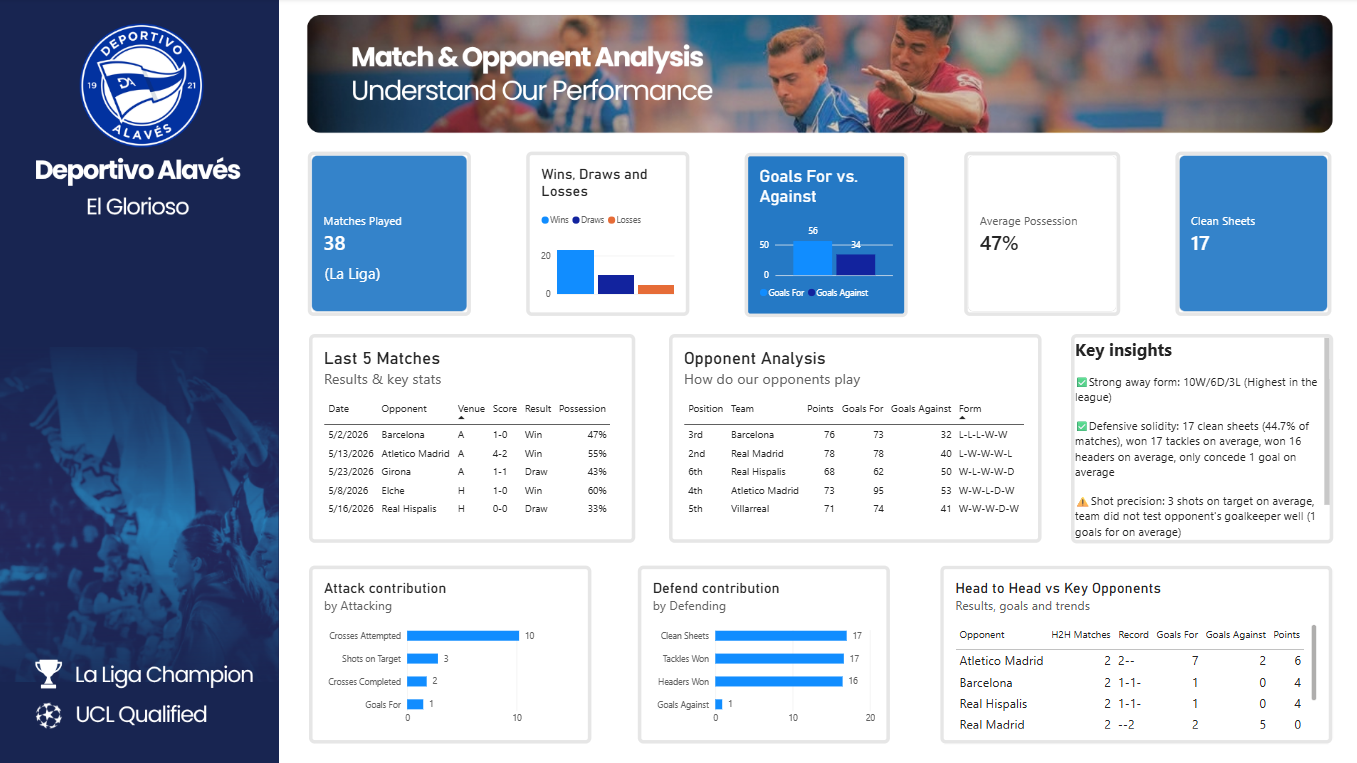

What the dashboard file says about the page in this screenshot:
{"tool":"powerbi","page":{"name":"Match & Opponent Analysis","canvas":[1920,1080],"ordinal":3},"visuals":[{"type":"image","box":[0,0,1920,1080.5],"z":0},{"type":"cardVisual","fields":{"Data":["CountNonNull(PBI_Matches.Opponent)"]},"box":[436.6,215.8,229.2,230.9],"z":1000,"group":"g1"},{"type":"textbox","box":[460.1,371.5,94.3,36.6],"z":2000,"group":"g1"},{"type":"clusteredColumnChart","fields":{"Y":["PBI_Matches.Wins","PBI_Matches.Draws","PBI_Matches.Losses"]},"box":[743.7,215,229.2,230.9],"z":3000},{"type":"clusteredColumnChart","title":"Goals For vs. Against","fields":{"Y":["Sum(PBI_Matches.Goals_For)","Sum(PBI_Matches.Goals_Against)"]},"box":[1050.8,216.7,229.2,230.9],"z":4000},{"type":"cardVisual","fields":{"Data":["PBI_Financials.Average Percentage"]},"box":[1358,215,219.1,230.9],"z":5000},{"type":"cardVisual","fields":{"Data":["PBI_Matches.Clean Sheets"]},"box":[1655,215,219.1,230.9],"z":6000},{"type":"tableEx","title":"Last 5 Matches","fields":{"Values":["PBI_Matches.Date.Variation.Date Hierarchy.Month","PBI_Matches.Opponent","PBI_Matches.Venue","PBI_Matches.Score","PBI_Matches.Result","PBI_Matches.Average Possession"]},"box":[437.5,472.5,458.5,293.3],"z":7000},{"type":"tableEx","title":"Opponent Analysis","fields":{"Values":["PBI_Opponent_Form.Position","PBI_Opponent_Form.Team","PBI_Opponent_Form.Points","PBI_Opponent_Form.Goals For","PBI_Opponent_Form.Goals Against","PBI_Opponent_Form.Form"]},"box":[944,472,523.6,293.6],"z":8000},{"type":"clusteredBarChart","fields":{"Category":["PBI_Matches_Contribution.Attacking"],"Y":["PBI_Matches_Contribution.Attack contribution"]},"box":[437.5,797.5,396.5,250.2],"z":9000},{"type":"clusteredBarChart","fields":{"Category":["PBI_Matches_Contribution.Defending"],"Y":["PBI_Matches_Contribution.Defend contribution"]},"box":[900.3,796.7,354.2,250.2],"z":10000},{"type":"tableEx","title":"Head to Head vs Key Opponents","fields":{"Values":["PBI_Matches.Opponent","PBI_Matches.H2H Matches","PBI_Matches.Record","Sum(PBI_Matches.Goals_For)","Sum(PBI_Matches.Goals_Against)","Sum(PBI_Matches.Points)"]},"box":[1325,797.5,550.5,250.2],"z":11000},{"type":"textbox","box":[1508,472,368,294],"z":12000},{"type":"group","id":"g1","title":"Group 1","box":[436.6,215.8,229.2,230.9],"z":12001}]}

Visuals, with their boxes in screenshot pixels (x1, y1, x2, y2), scaled from the page's 1920x1080 canvas onto the 1357x763 screenshot:
image: BBox(0, 0, 1356, 762)
cardVisual - CountNonNull(PBI_Matches.Opponent): BBox(309, 152, 471, 316)
textbox: BBox(325, 262, 392, 288)
clusteredColumnChart - PBI_Matches.Wins x PBI_Matches.Draws: BBox(526, 152, 688, 315)
"Goals For vs. Against" clusteredColumnChart: BBox(743, 153, 905, 316)
cardVisual - PBI_Financials.Average Percentage: BBox(960, 152, 1115, 315)
cardVisual - PBI_Matches.Clean Sheets: BBox(1170, 152, 1325, 315)
"Last 5 Matches" tableEx: BBox(309, 334, 633, 541)
"Opponent Analysis" tableEx: BBox(667, 333, 1037, 541)
clusteredBarChart - PBI_Matches_Contribution.Attacking x PBI_Matches_Contribution.Attack contribution: BBox(309, 563, 589, 740)
clusteredBarChart - PBI_Matches_Contribution.Defending x PBI_Matches_Contribution.Defend contribution: BBox(636, 563, 887, 740)
"Head to Head vs Key Opponents" tableEx: BBox(936, 563, 1326, 740)
textbox: BBox(1066, 333, 1326, 541)
"Group 1" group: BBox(309, 152, 471, 316)
